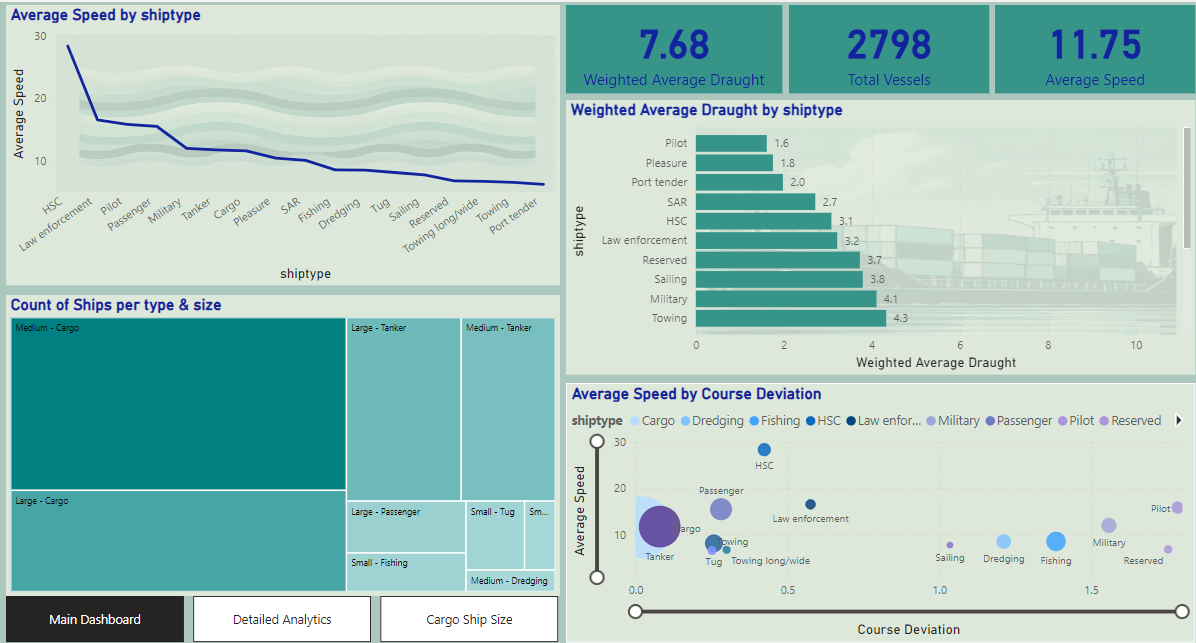

Layout of this report page (visuals, bound fields, positions):
{"tool":"powerbi","page":{"name":"Main Dashboard","canvas":[1280,720],"ordinal":0},"visuals":[{"type":"card","fields":{"Values":["path_to_cleaned_ais_data.Average Speed"]},"box":[1059.2,41.8,213,94.3],"z":0},{"type":"card","fields":{"Values":["path_to_cleaned_ais_data.Total Vessels"]},"box":[839.4,41.8,213,94.3],"z":1000},{"type":"card","fields":{"Values":["path_to_cleaned_ais_data.Weighted Average Draught"]},"box":[603,41.8,229.5,94.3],"z":2000},{"type":"lineChart","title":"Average Speed by shiptype","fields":{"Category":["path_to_cleaned_ais_data.shiptype"],"Y":["path_to_cleaned_ais_data.Average Speed"]},"box":[6.9,41.6,588.9,298.4],"z":3000},{"type":"treemap","title":"Count of Ships per type & size","fields":{"Group":["path_to_cleaned_ais_data.VesselSize_ShipType"],"Values":["CountNonNull(path_to_cleaned_ais_data.shiptype)"]},"box":[6.9,350,588.9,320.2],"z":4000},{"type":"scatterChart","title":"Average Speed by Course Deviation","fields":{"X":["path_to_cleaned_ais_data.Course Deviation"],"Y":["path_to_cleaned_ais_data.Average Speed"],"Series":["path_to_cleaned_ais_data.shiptype"],"Size":["CountNonNull(path_to_cleaned_ais_data.VesselSize_ShipType)"]},"box":[603,443.5,669.2,276.2],"z":5000},{"type":"barChart","fields":{"Category":["path_to_cleaned_ais_data.shiptype"],"Y":["path_to_cleaned_ais_data.Weighted Average Draught"]},"box":[603,143,669.2,291.8],"z":6000},{"type":"actionButton","box":[0,0,100,40],"z":7000},{"type":"pageNavigator","box":[6.9,670.2,588.9,49.6],"z":8000}]}

Visuals, with their boxes on the page's 1280x720 design canvas (x1, y1, x2, y2). These are canvas units, not pixel positions in the 1196x643 screenshot, which may show the page scaled, cropped or inside an application window:
card - path_to_cleaned_ais_data.Average Speed: [left=1059, top=42, right=1272, bottom=136]
card - path_to_cleaned_ais_data.Total Vessels: [left=839, top=42, right=1052, bottom=136]
card - path_to_cleaned_ais_data.Weighted Average Draught: [left=603, top=42, right=832, bottom=136]
"Average Speed by shiptype" lineChart: [left=7, top=42, right=596, bottom=340]
"Count of Ships per type & size" treemap: [left=7, top=350, right=596, bottom=670]
"Average Speed by Course Deviation" scatterChart: [left=603, top=444, right=1272, bottom=720]
barChart - path_to_cleaned_ais_data.shiptype x path_to_cleaned_ais_data.Weighted Average Draught: [left=603, top=143, right=1272, bottom=435]
actionButton: [left=0, top=0, right=100, bottom=40]
pageNavigator: [left=7, top=670, right=596, bottom=720]
